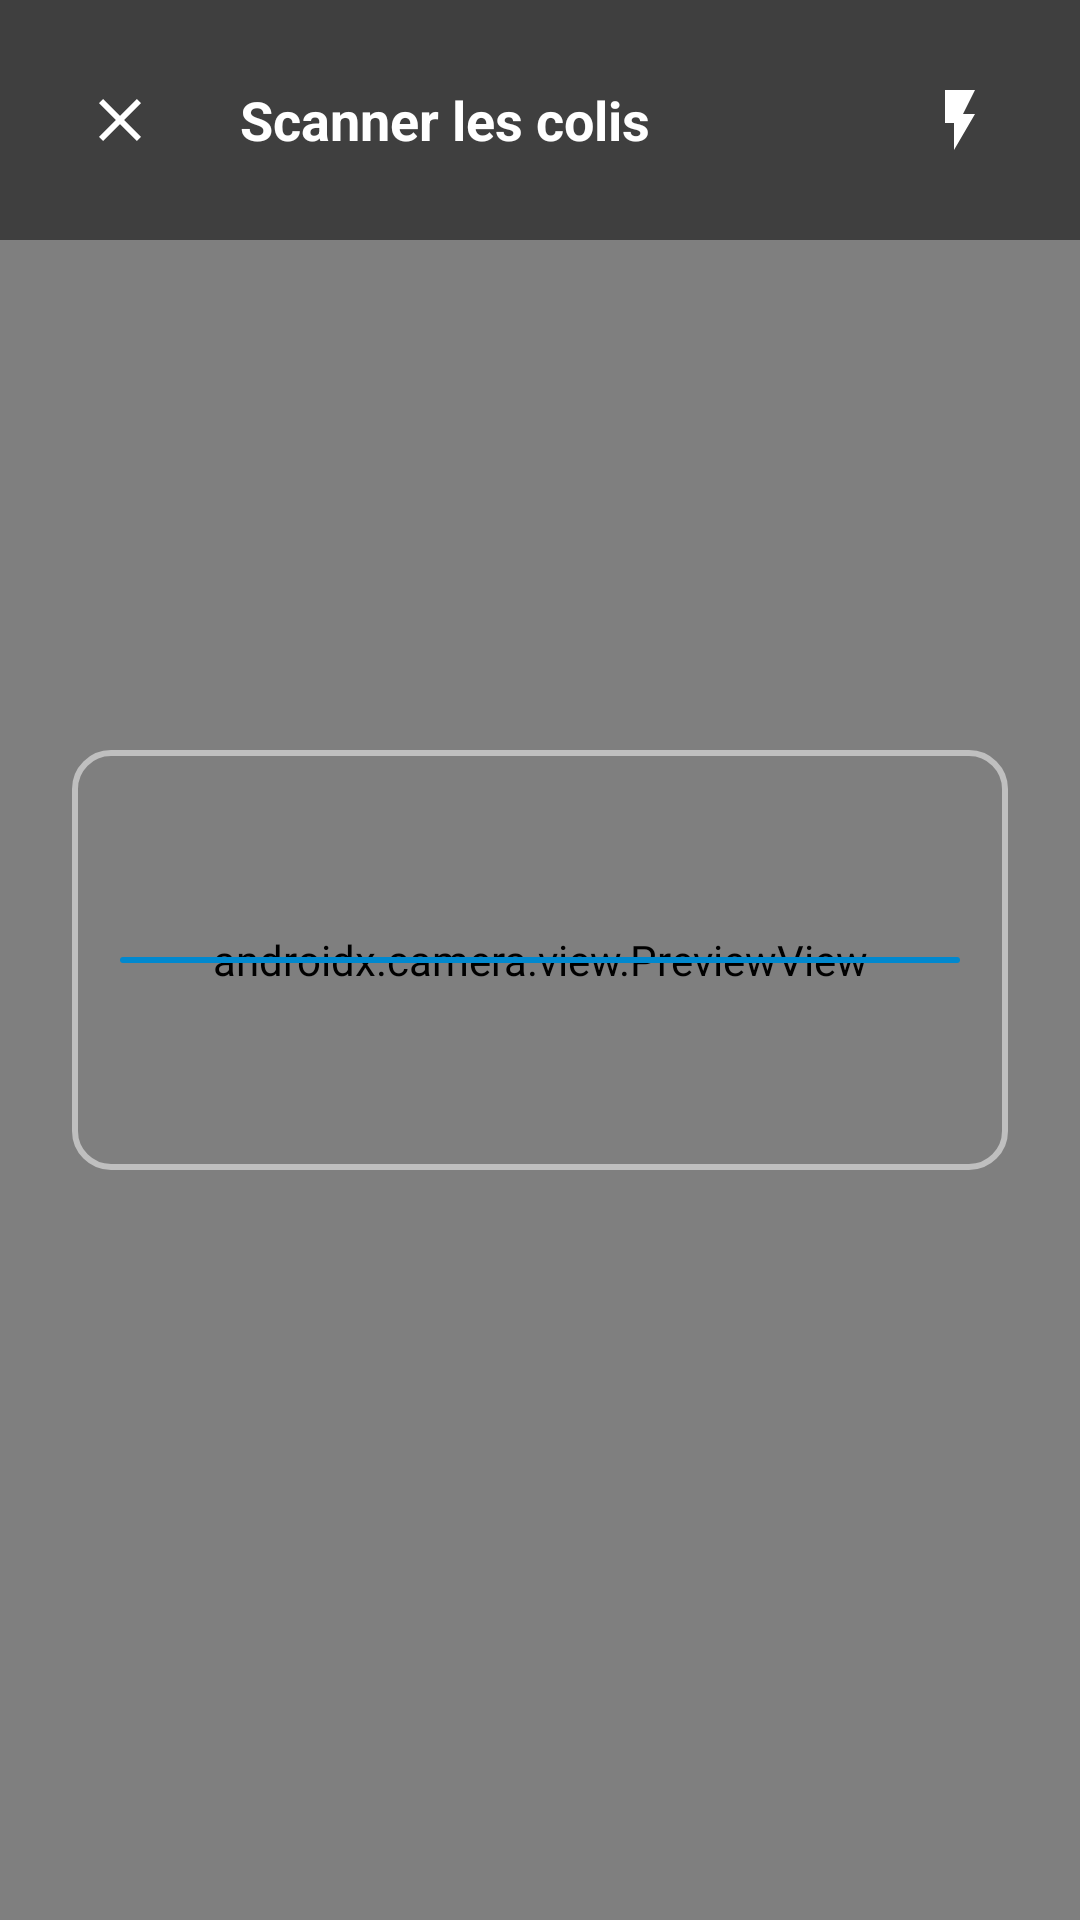

Where to tap for icons on this 1080×1920 app screen, as [x,y]:
close: [120,120]
flash on: [960,120]
